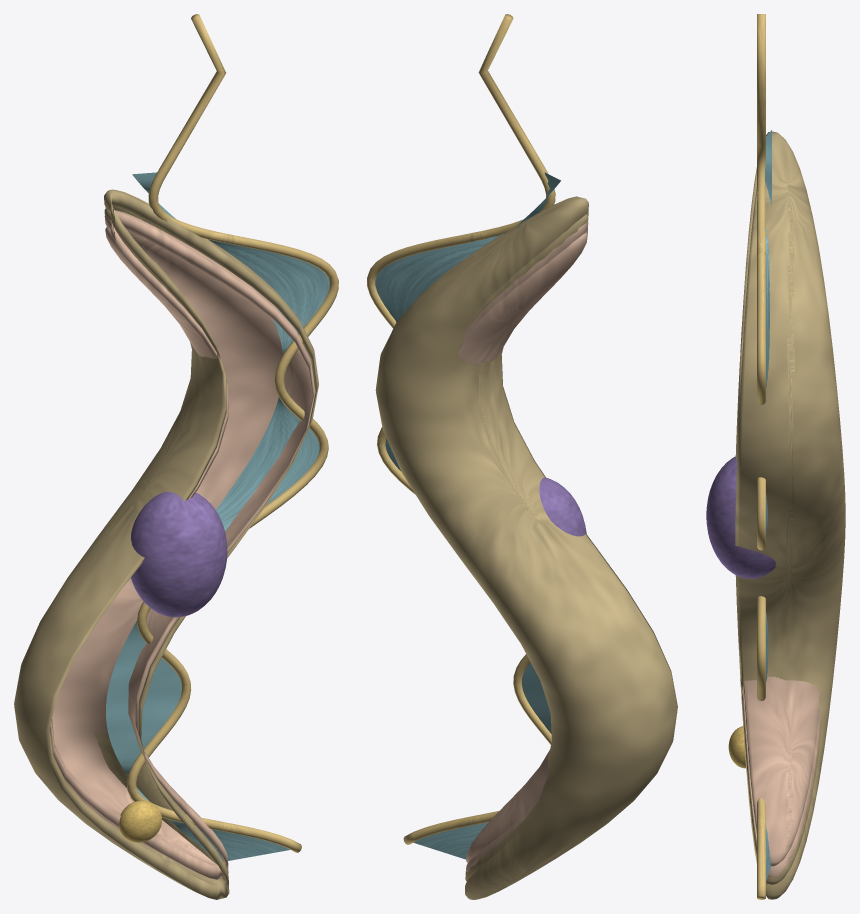
The model's file is cutaway.glb.
The picture shows the model from 3 angles, left to right: view 1: azimuth 30°, elevation 25°; view 2: azimuth 150°, elevation 25°; view 3: azimuth 270°, elevation 25°; orthographic projection. The views are drawn at different scales.
Parts seen in each view (by area): view 1: citoplasma_mesh, membrana_mesh, ondulante_mesh, flagelo_mesh, nucleo_mesh, cinetoplasto_mesh; view 2: membrana_mesh, citoplasma_mesh, ondulante_mesh, flagelo_mesh, nucleo_mesh; view 3: membrana_mesh, citoplasma_mesh, flagelo_mesh, nucleo_mesh, ondulante_mesh, cinetoplasto_mesh.
Part boxes in pixels (<box>): citoplasma_mesh: <box>50,210,315,879</box>; membrana_mesh: <box>14,189,318,899</box>; ondulante_mesh: <box>106,172,329,861</box>; flagelo_mesh: <box>126,14,338,852</box>; nucleo_mesh: <box>131,492,227,617</box>; cinetoplasto_mesh: <box>119,800,161,842</box>; membrana_mesh: <box>375,196,677,899</box>; citoplasma_mesh: <box>458,222,588,872</box>; ondulante_mesh: <box>375,172,560,859</box>; flagelo_mesh: <box>367,14,555,844</box>; nucleo_mesh: <box>539,477,586,536</box>; membrana_mesh: <box>735,131,845,899</box>; citoplasma_mesh: <box>743,676,820,876</box>; flagelo_mesh: <box>757,14,765,899</box>; nucleo_mesh: <box>706,456,776,578</box>; ondulante_mesh: <box>765,130,771,881</box>; cinetoplasto_mesh: <box>728,726,745,768</box>.
Bounding box in the file's own units: 1.32 × 3.66 × 0.53.
6 materials, 6 textured.
